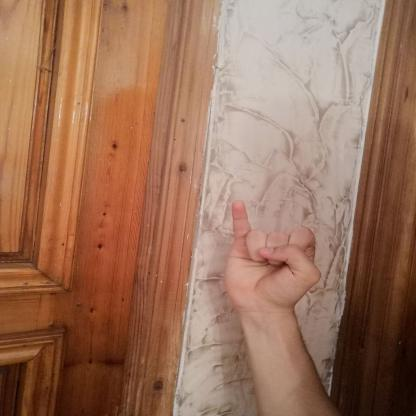MEEM: (206, 190, 335, 319)
